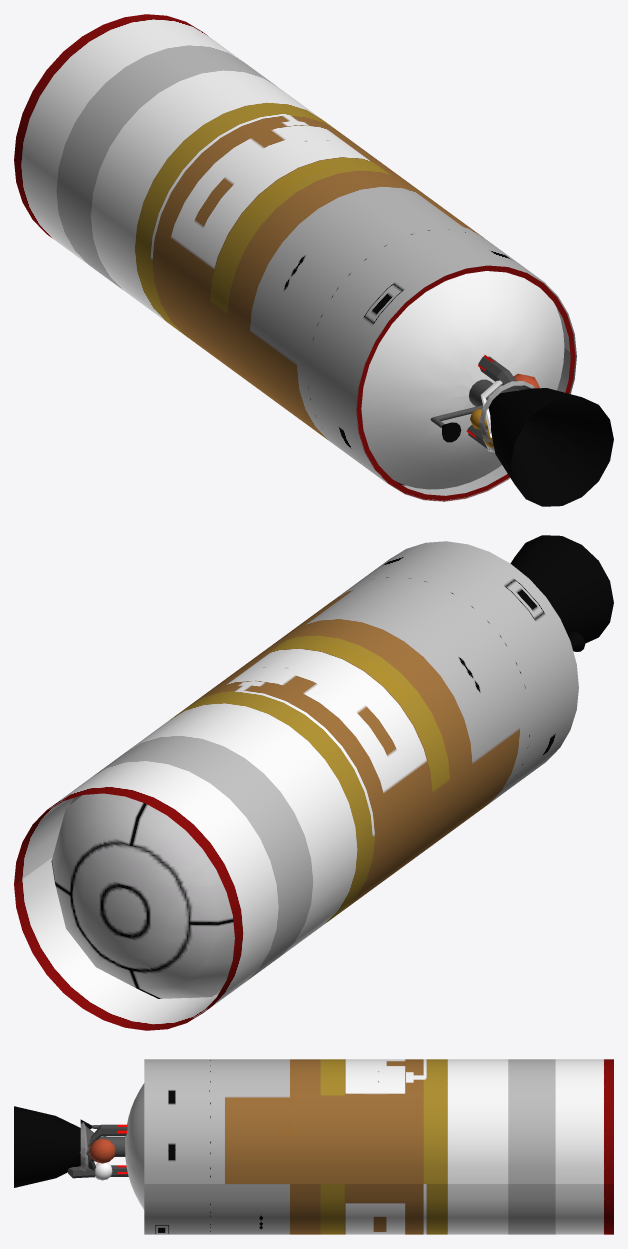
File: titan45_stage2.obj
3 renders of one model, top to bottom at view 1: azimuth 30°, elevation 25°; view 2: azimuth 150°, elevation 25°; view 3: azimuth 270°, elevation 25°, orthographic. The views are drawn at different scales.
Visible parts, largest first — view 1: group10, group6, group11, group12, group8, group9; view 2: group10, group0, group12; view 3: group10, group12, group6, group7, group18, group19, group16, group20, group5.
Part boxes in pixels (x1=…): group10: x1=14, y1=14, x2=576, y2=501; group6: x1=361, y1=271, x2=564, y2=489; group11: x1=510, y1=397, x2=613, y2=506; group12: x1=488, y1=388, x2=581, y2=483; group8: x1=356, y1=265, x2=575, y2=409; group9: x1=356, y1=356, x2=575, y2=501; group10: x1=14, y1=541, x2=578, y2=1030; group0: x1=51, y1=793, x2=234, y2=998; group12: x1=510, y1=535, x2=613, y2=643; group10: x1=144, y1=1059, x2=613, y2=1234; group12: x1=14, y1=1106, x2=80, y2=1187; group6: x1=125, y1=1083, x2=144, y2=1209; group7: x1=89, y1=1138, x2=115, y2=1163; group18: x1=79, y1=1124, x2=127, y2=1170; group19: x1=68, y1=1165, x2=128, y2=1178; group16: x1=85, y1=1126, x2=125, y2=1165; group20: x1=80, y1=1122, x2=88, y2=1171; group5: x1=95, y1=1162, x2=112, y2=1180.
Bounding box in the file's own units: 3.05 × 3.05 × 10.44.
Materials: 11 (2 with a texture image).
